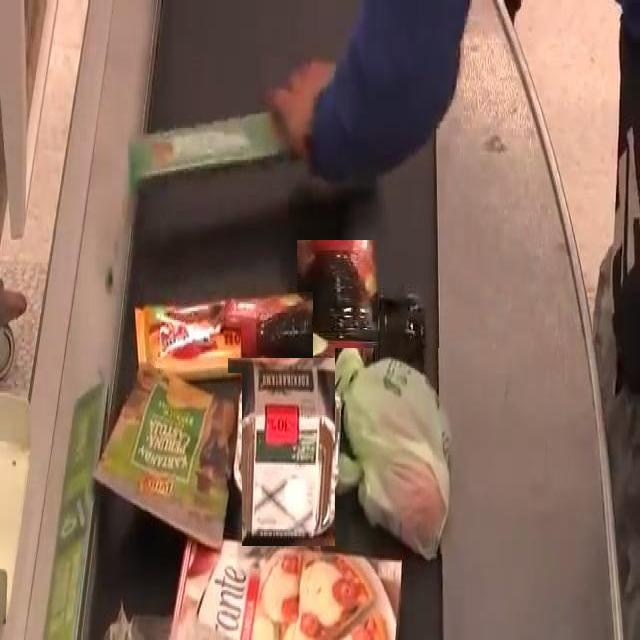beverage: (271, 266, 404, 399)
food-box: (113, 373, 242, 560), (227, 357, 346, 555), (164, 546, 410, 640), (139, 292, 313, 374)
vegetable: (336, 348, 462, 554)
